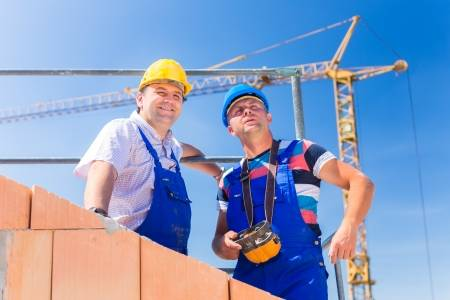casco: (220, 82, 270, 128), (137, 58, 193, 98)
